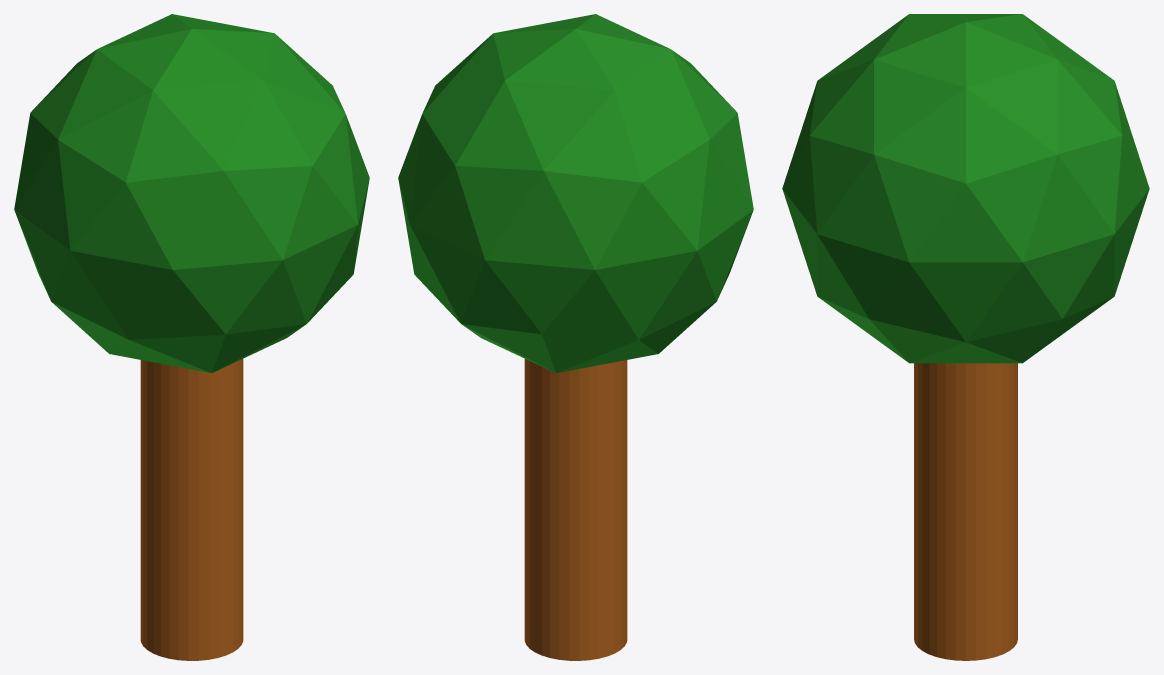
Rendered from small.glb.
3 views of the same model, side by side, from view 1: azimuth 30°, elevation 25°; view 2: azimuth 150°, elevation 25°; view 3: azimuth 270°, elevation 25° (orthographic).
Parts seen in each view (by area): view 1: pouce; view 2: pouce; view 3: pouce.
Part boxes in pixels (x1,y1,x2,y2): pouce: (14,14,369,660); pouce: (398,14,753,660); pouce: (782,14,1149,660).
Bounding box in the file's own units: 0.4797 × 0.9343 × 0.5044.
